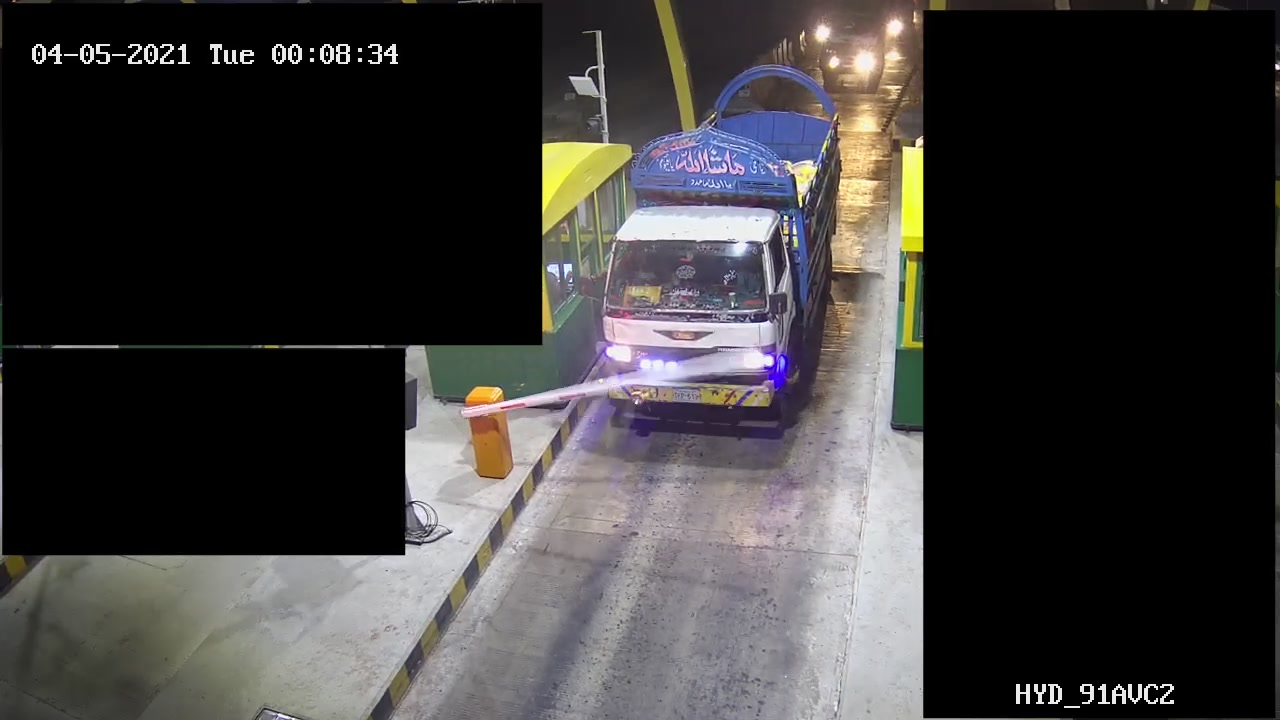F5: (608, 60, 844, 421)
